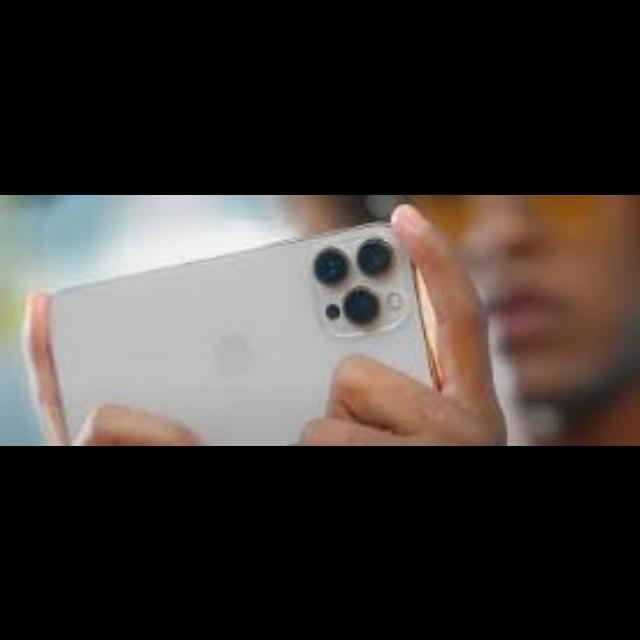phone: (22, 203, 495, 446)
